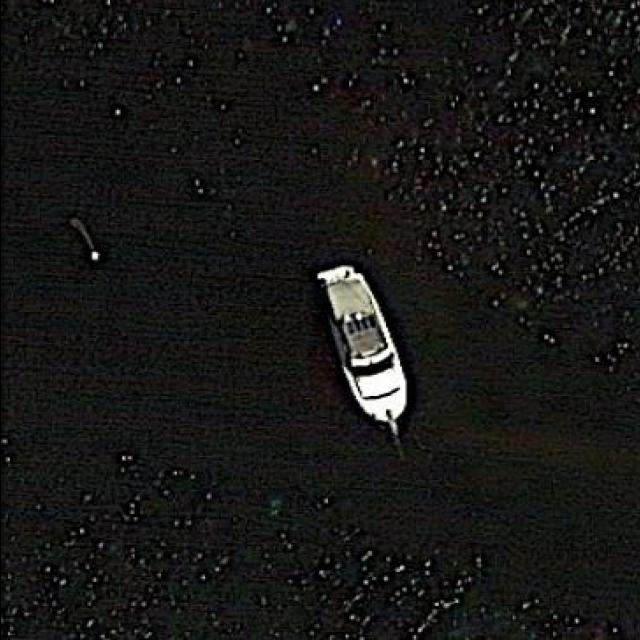ship: (316, 264, 408, 422)
